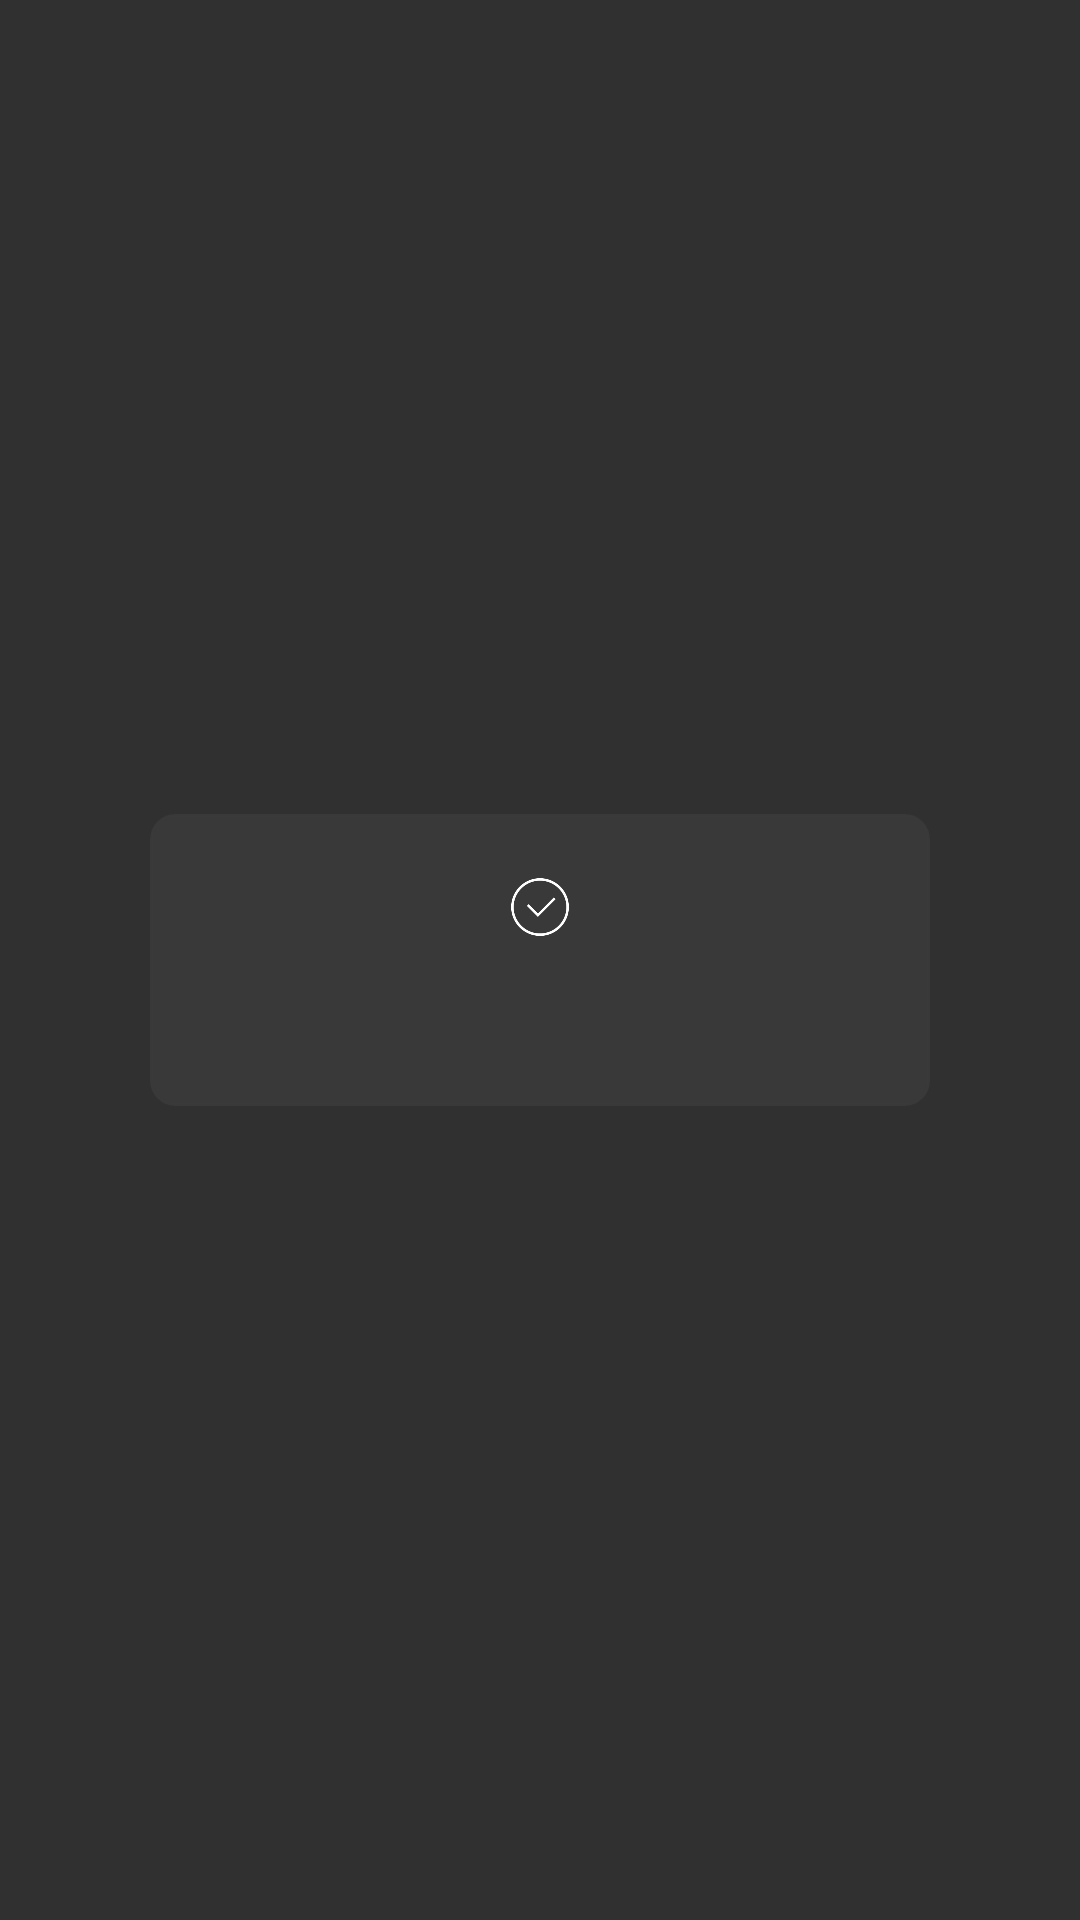

Where to tap for icons on this 1080px x 1920px app screen, as [x,y]:
toast success: [540,907]
